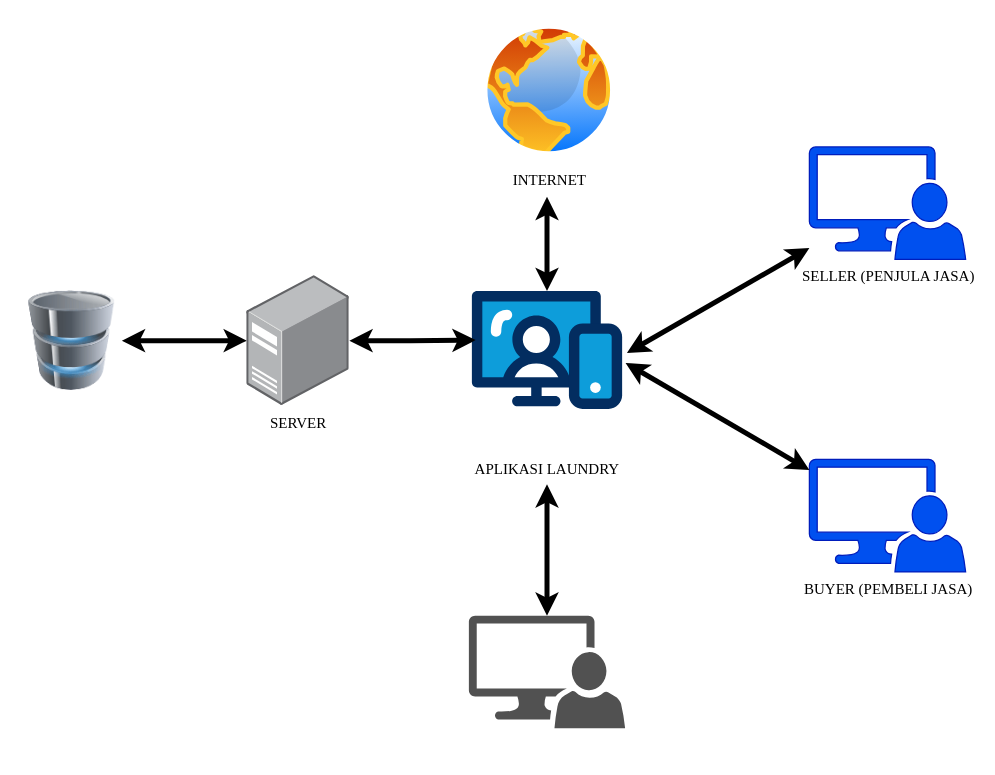
This 995x775 diagram has some shape labels left out. The shapes that lost their labels are listed below. From the top down, each one's box as (x1, y1, x2, y2) in pixels, then its label:
(21, 290, 121, 390): DATABASE
(468, 615, 624, 728): ADMINISTRATOR
